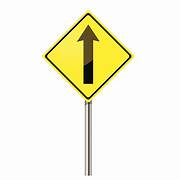forward: (43, 11, 134, 102)
